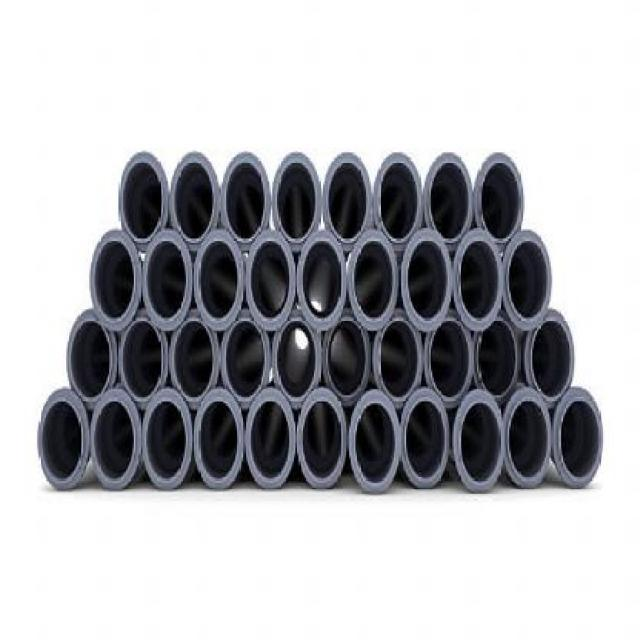pipe: (194, 388, 245, 490), (39, 388, 90, 490), (454, 391, 506, 491), (349, 391, 401, 491), (402, 229, 453, 330), (246, 388, 297, 489), (142, 389, 193, 490), (452, 231, 503, 330), (91, 391, 141, 491), (89, 232, 140, 330), (66, 311, 117, 409), (245, 231, 295, 330), (142, 231, 192, 329), (297, 231, 347, 329), (119, 311, 169, 409), (169, 152, 219, 250), (474, 152, 524, 250), (373, 152, 423, 250), (220, 154, 270, 252), (119, 154, 169, 252), (554, 388, 603, 487), (297, 388, 346, 487), (194, 231, 244, 328), (350, 232, 399, 330), (273, 152, 322, 250), (423, 311, 473, 407), (525, 311, 574, 408), (171, 311, 220, 408), (400, 389, 449, 486), (323, 154, 372, 251), (423, 154, 472, 250), (222, 311, 270, 408), (374, 311, 423, 406), (503, 388, 550, 487), (272, 313, 320, 409), (505, 231, 552, 329), (323, 310, 370, 406), (473, 312, 520, 404)
